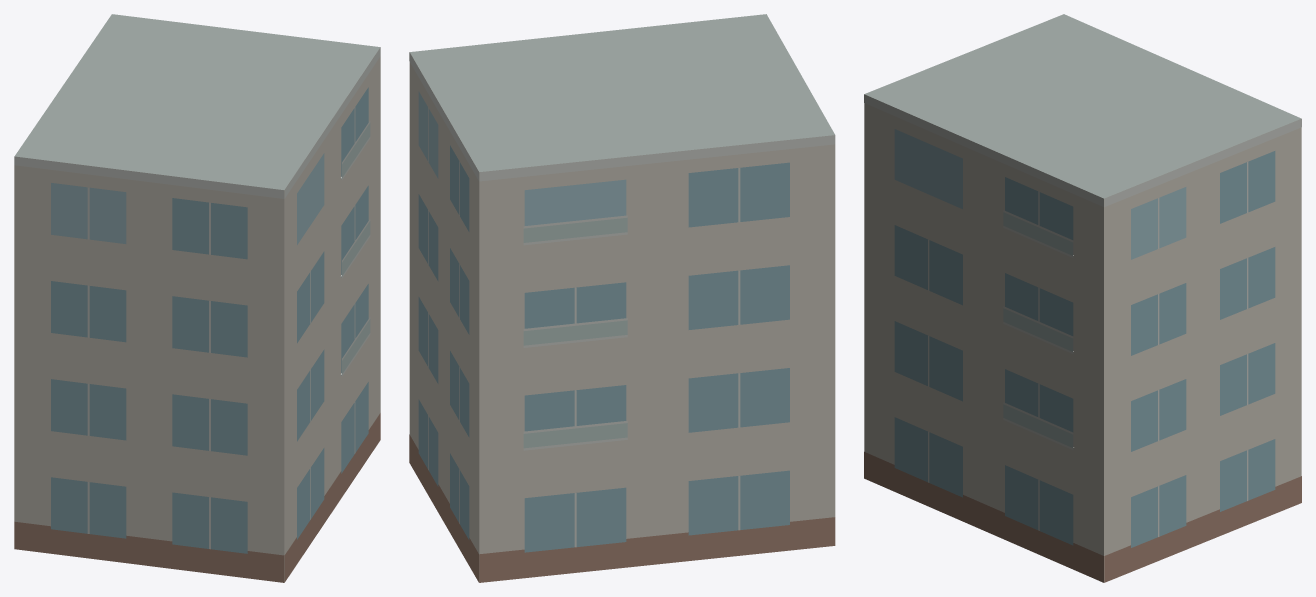
File: survey-upis-33010989.glb
3 renders of one model, left to right at view 1: azimuth 30°, elevation 25°; view 2: azimuth 150°, elevation 25°; view 3: azimuth 270°, elevation 25°, orthographic. The views are drawn at different scales.
Parts seen in each view (by area): view 1: survey-upis-33010989.tmp; view 2: survey-upis-33010989.tmp; view 3: survey-upis-33010989.tmp.
Part boxes in pixels (x1,y1,x2,y2): survey-upis-33010989.tmp: [14, 14, 380, 582]; survey-upis-33010989.tmp: [409, 14, 835, 582]; survey-upis-33010989.tmp: [864, 14, 1301, 582].
Bounding box in the file's own units: 11.14 × 10.8 × 11.16.
